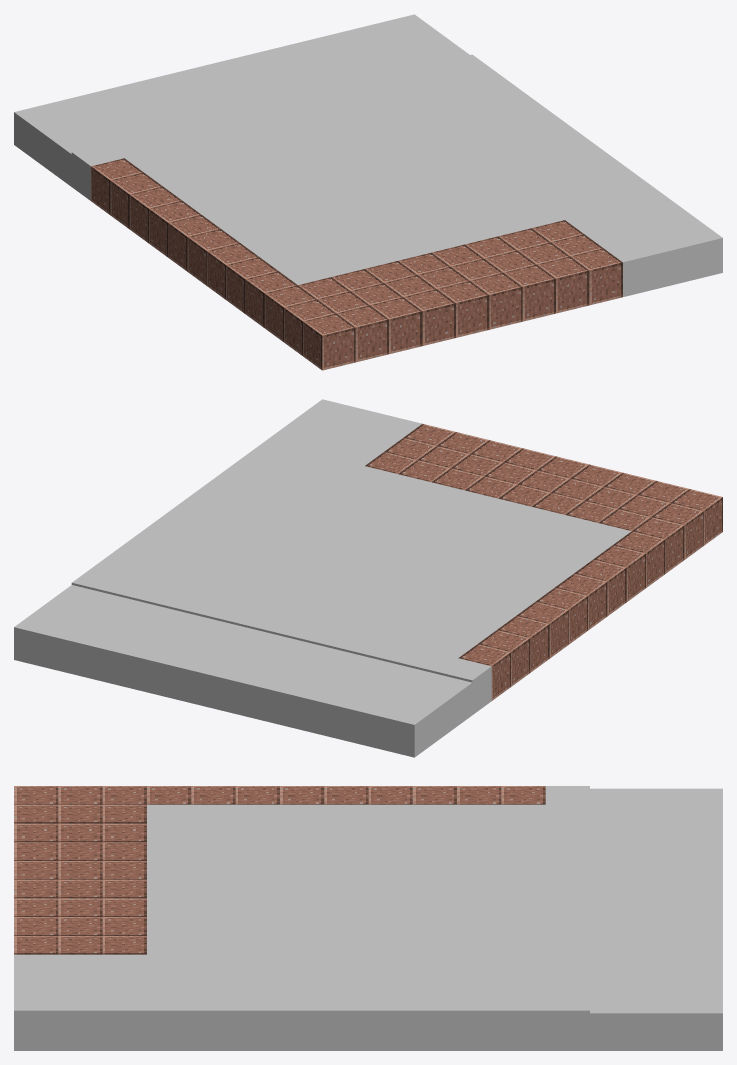
File: dreamT.obj
The picture shows the model from 3 angles, top to bottom: view 1: azimuth 30°, elevation 25°; view 2: azimuth 150°, elevation 25°; view 3: azimuth 270°, elevation 25°; orthographic projection. The views are drawn at different scales.
Visible parts, largest first — view 1: Polished_Granite, Grass_Block, Dirt_Path, Green_Wool, Lime_Wool; view 2: Dirt_Path, Grass_Block, Polished_Granite, Lime_Wool, Green_Wool; view 3: Grass_Block, Dirt_Path, Lime_Wool, Green_Wool, Polished_Granite.
Boxes of the visible parts, box(x1,y1,x2,y2) form: Polished_Granite: box(91, 158, 622, 370); Grass_Block: box(71, 54, 722, 296); Dirt_Path: box(14, 14, 469, 186); Green_Wool: box(144, 93, 564, 276); Lime_Wool: box(125, 101, 545, 284); Dirt_Path: box(14, 585, 472, 757); Grass_Block: box(71, 399, 491, 714); Polished_Granite: box(365, 423, 722, 700); Lime_Wool: box(211, 474, 631, 657); Green_Wool: box(192, 466, 611, 649); Grass_Block: box(14, 786, 589, 1050); Dirt_Path: box(590, 788, 722, 1050); Lime_Wool: box(147, 804, 545, 954); Green_Wool: box(147, 804, 545, 954); Polished_Granite: box(14, 786, 545, 954).
Bounding box in the file's own units: 12 × 1 × 16.
